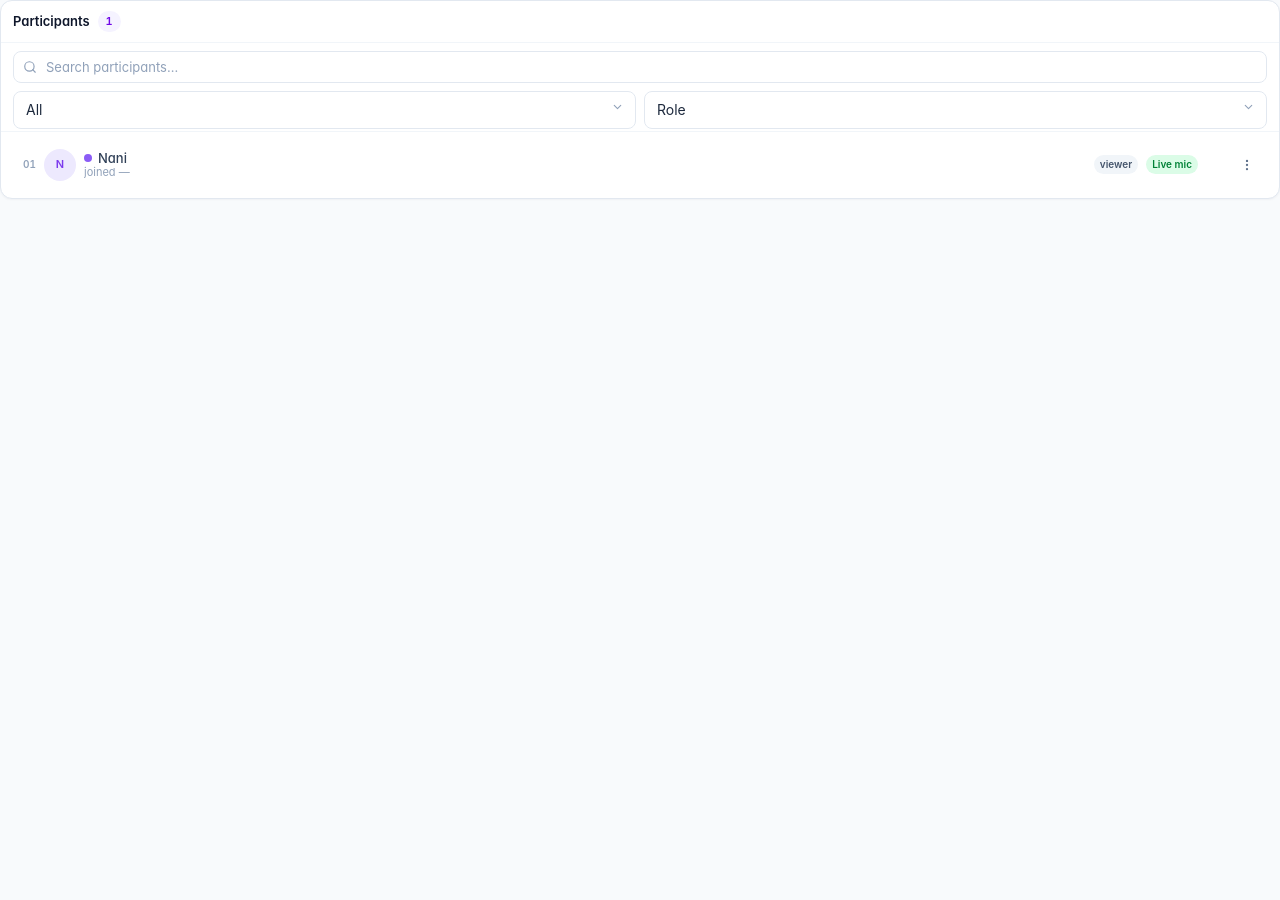
across every state › publishing, live offers the action that works
The width and height of the screenshot is (1280, 900).
Click the button named "more actions for" at (1247, 164), box [1234,150,1260,178]
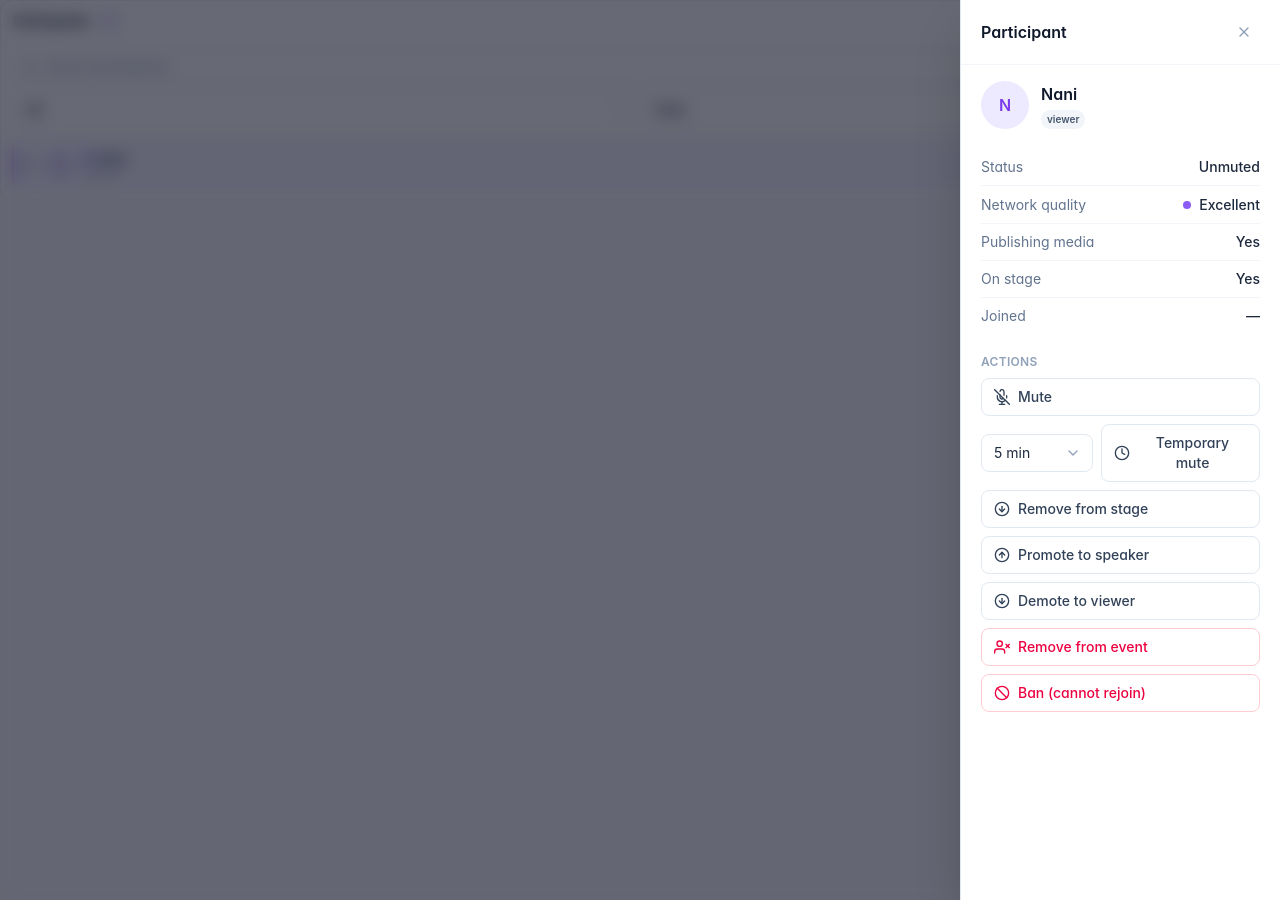
Expected: the button "Mute" is shown, [981,378,1260,416]
